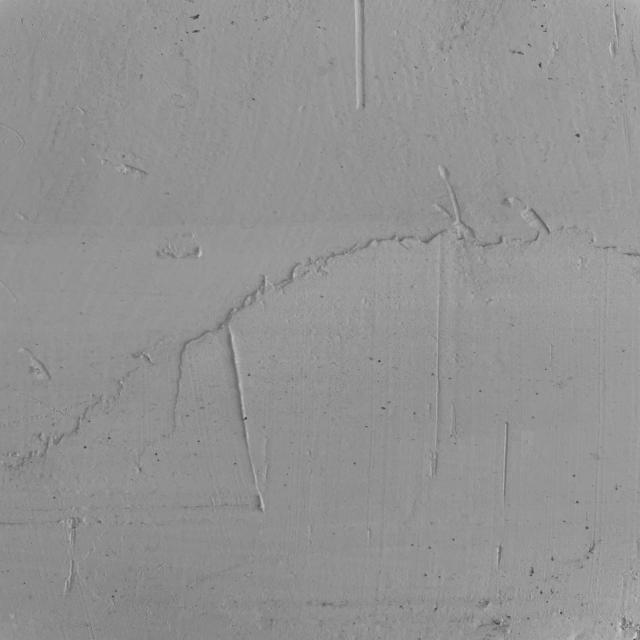rough and patchy surface: (17, 0, 622, 640)
